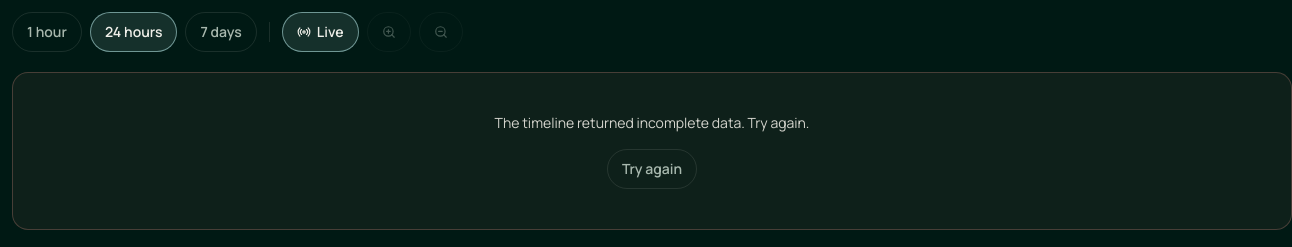
Test case: AuditTimeline › handles invalid JSON and non-string HTTP errors without rendering raw objects
Expected: the message shows "The timeline returned incomplete data.", [495, 113, 809, 132]
Click the button "Try again". click: click(652, 169)
box: [607, 149, 697, 189]
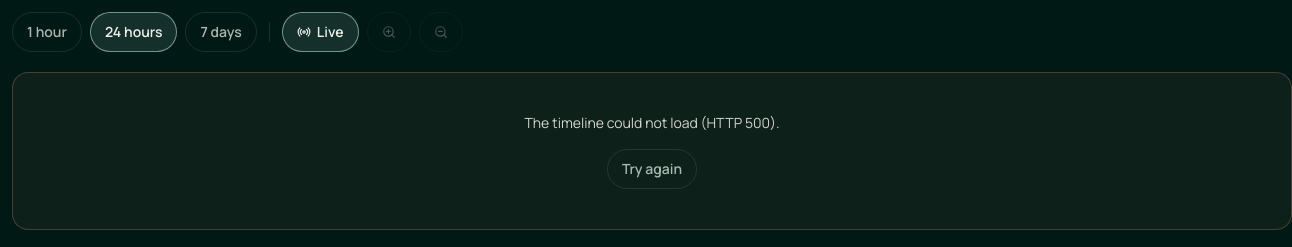
Expected: the text "The timeline could not load (HTTP 500)." is shown, [524, 113, 780, 132]
